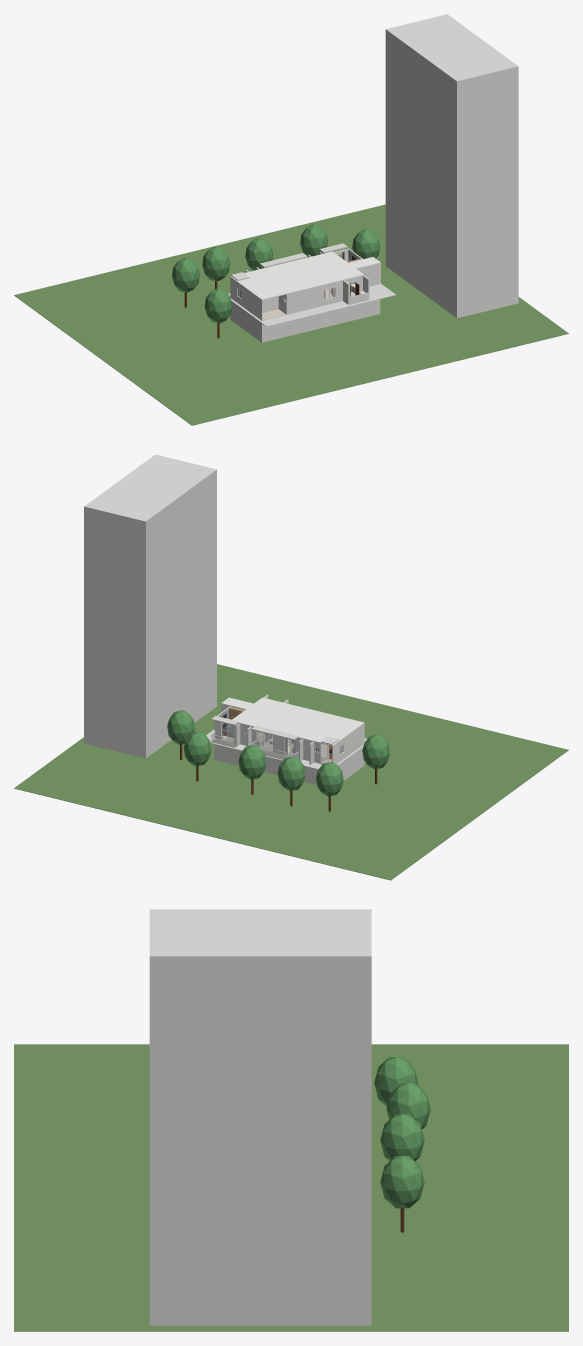
Rendered from A105_Vanshikas_Type5.fbx.
The picture shows the model from 3 angles, top to bottom: view 1: azimuth 30°, elevation 25°; view 2: azimuth 150°, elevation 25°; view 3: azimuth 270°, elevation 25°; orthographic projection. The views are drawn at different scales.
Parts seen in each view (by area): view 1: Ground, Neighbour_E, Ceiling, Facade_below, Slab_Below, DiningSouth_w1, Tree0, Tree3, Tree5, Tree2, Tree1, Tree4; view 2: Ground, Neighbour_E, Ceiling, Facade_below, Tree5, Tree1, Tree2, Tree0, Tree3, Tree4; view 3: Neighbour_E, Ground, Tree2, Tree1, Tree5, Tree0.
Boxes of the visible parts, x1,y1,x2,y2 form: Ground: (14,204,568,425); Neighbour_E: (385,14,518,318); Ceiling: (230,251,364,300); Facade_below: (230,299,380,342); Slab_Below: (228,284,395,326); DiningSouth_w1: (286,285,323,314); Tree0: (172,258,199,292); Tree3: (204,288,232,323); Tree5: (202,246,229,281); Tree2: (300,224,327,257); Tree1: (245,238,273,270); Tree4: (352,229,379,258); Ground: (14,664,568,880); Neighbour_E: (84,454,216,758); Ceiling: (232,697,364,746); Facade_below: (214,744,364,784); Tree5: (277,756,305,790); Tree1: (238,745,266,779); Tree2: (183,731,211,766); Tree0: (316,762,343,796); Tree3: (362,734,389,769); Tree4: (167,710,194,744); Neighbour_E: (149,909,371,1325); Ground: (14,1044,568,1331); Tree2: (380,1156,424,1208); Tree1: (380,1114,424,1161); Tree5: (386,1083,430,1129); Tree0: (374,1057,418,1106).
Size of the model in its own units: 5500 by 3310 by 4500.
Materials: 62 (33 with a texture image).
